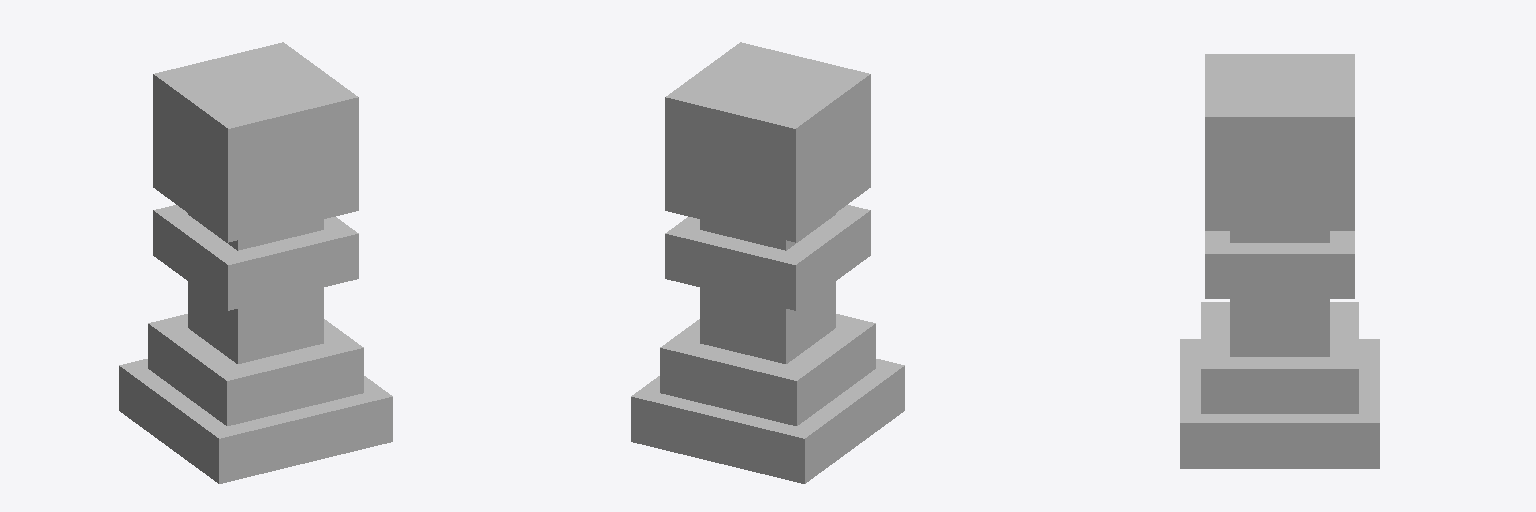
Rendered from pawn.obj.
3 renders of one model, left to right at view 1: azimuth 30°, elevation 25°; view 2: azimuth 150°, elevation 25°; view 3: azimuth 270°, elevation 25°, orthographic.
Parts seen in each view (by area): view 1: cube; view 2: cube; view 3: cube.
Part boxes in pixels (left/top/right/bottom): cube: left=119, top=42, right=392, bottom=483; cube: left=631, top=42, right=904, bottom=483; cube: left=1180, top=54, right=1379, bottom=468.
Bounding box in the file's own units: 0.25 × 0.4688 × 0.25.